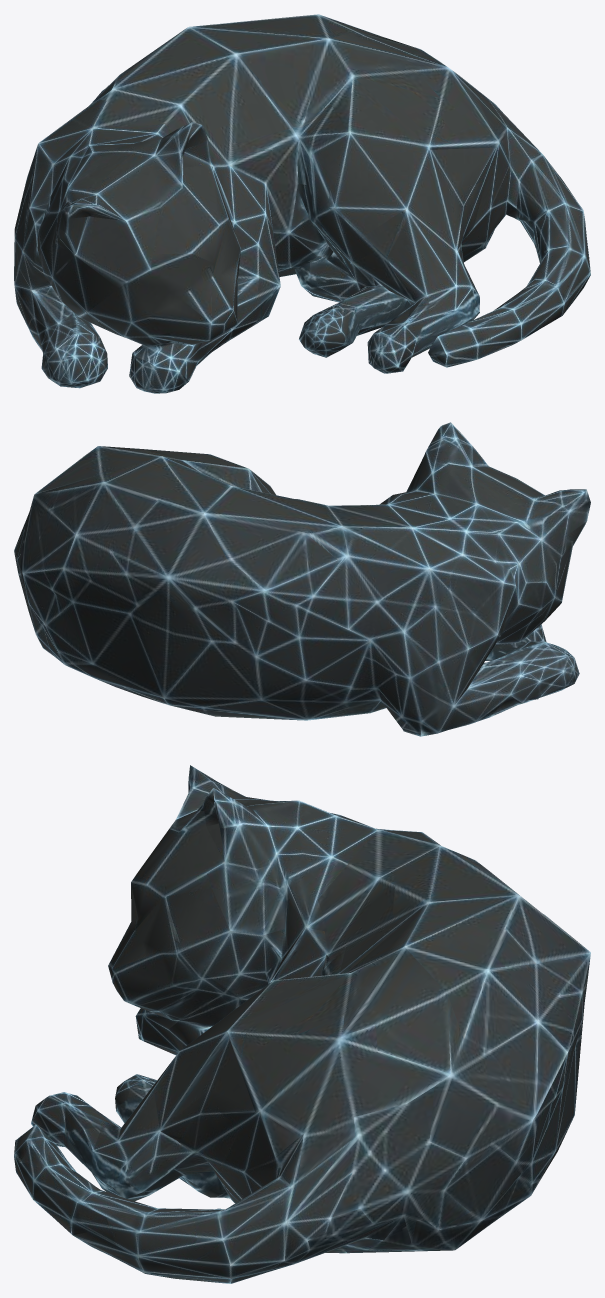
File: cat.glb
3 renders of one model, top to bottom at view 1: azimuth 30°, elevation 25°; view 2: azimuth 150°, elevation 25°; view 3: azimuth 270°, elevation 25°, orthographic. The views are drawn at different scales.
Visible parts, largest first — view 1: mesh_node; view 2: mesh_node; view 3: mesh_node.
Part boxes in pixels (bbox=[...]): mesh_node: bbox=[14, 14, 590, 393]; mesh_node: bbox=[14, 422, 590, 736]; mesh_node: bbox=[14, 765, 590, 1283].
Bounding box in the file's own units: 1.9 × 0.7995 × 1.5.
1 material, 1 textured.
